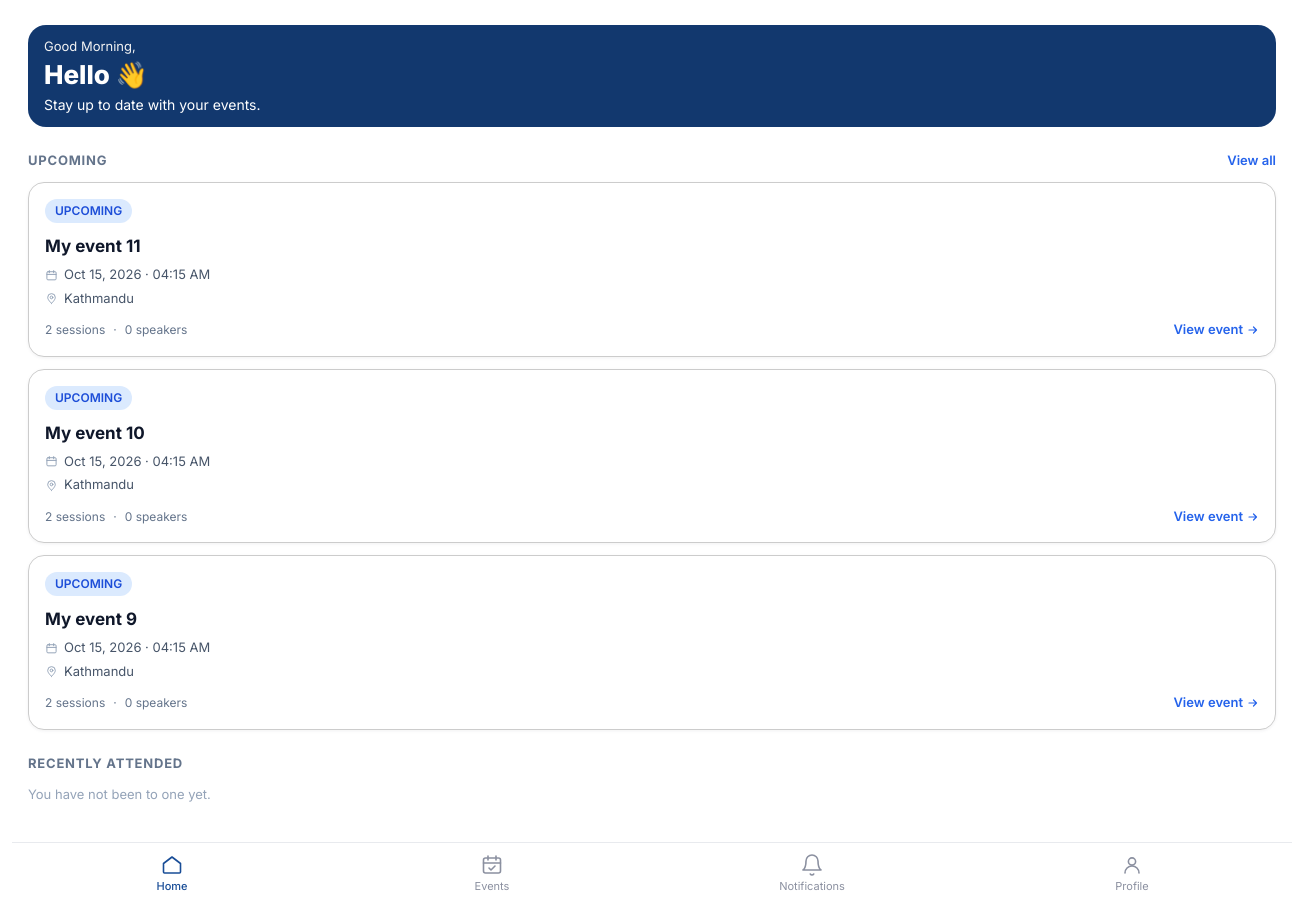
Test case: home › paginates My Events newest-first in pages of five
Click the button "Events".
click(492, 872)  # box [332,843,652,899]
(page scrolled)
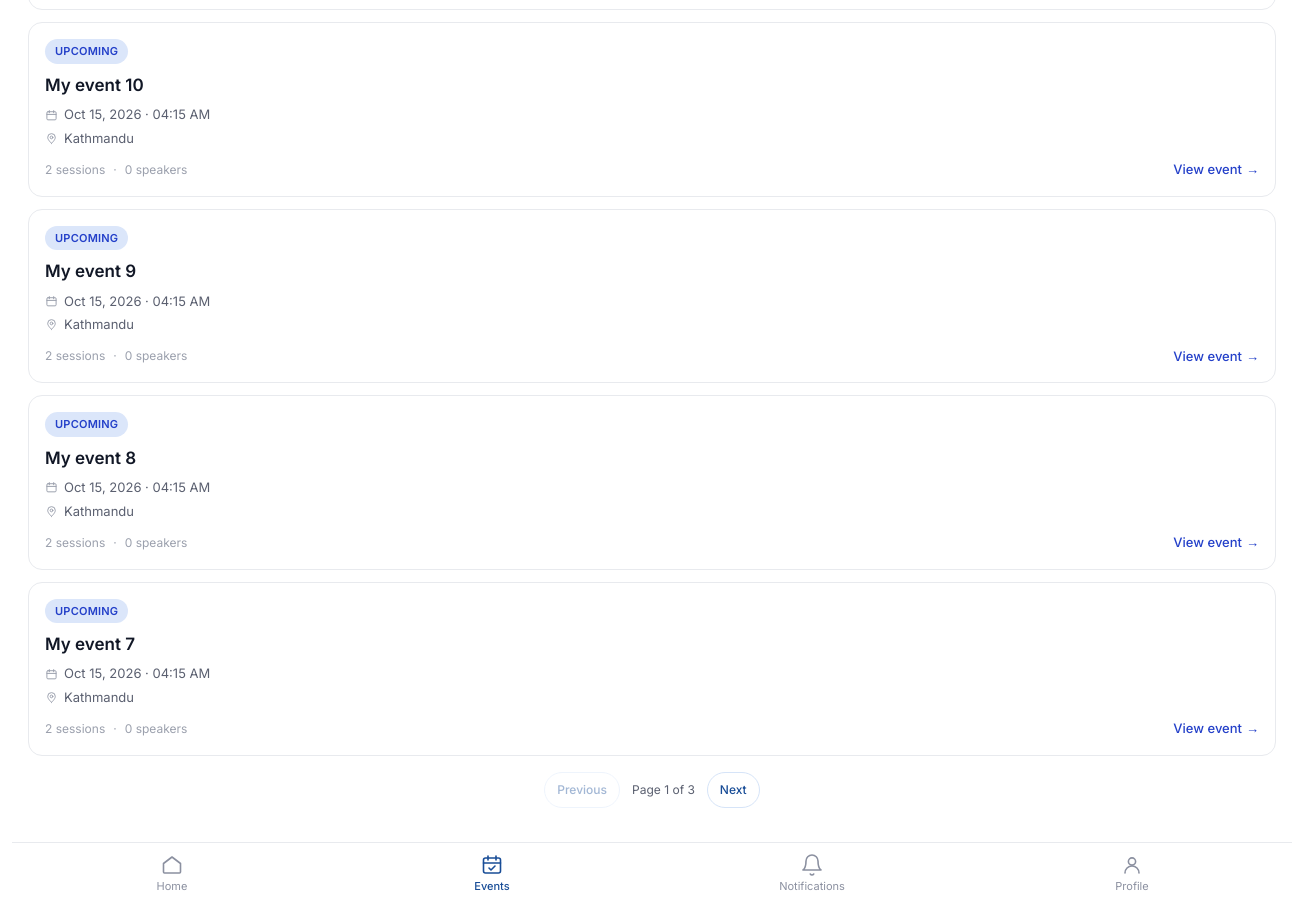
Result: the heading "My event 7" is shown at [45,634,135,654]
Click the button "Next".
click(733, 790)  # box [707,772,760,808]
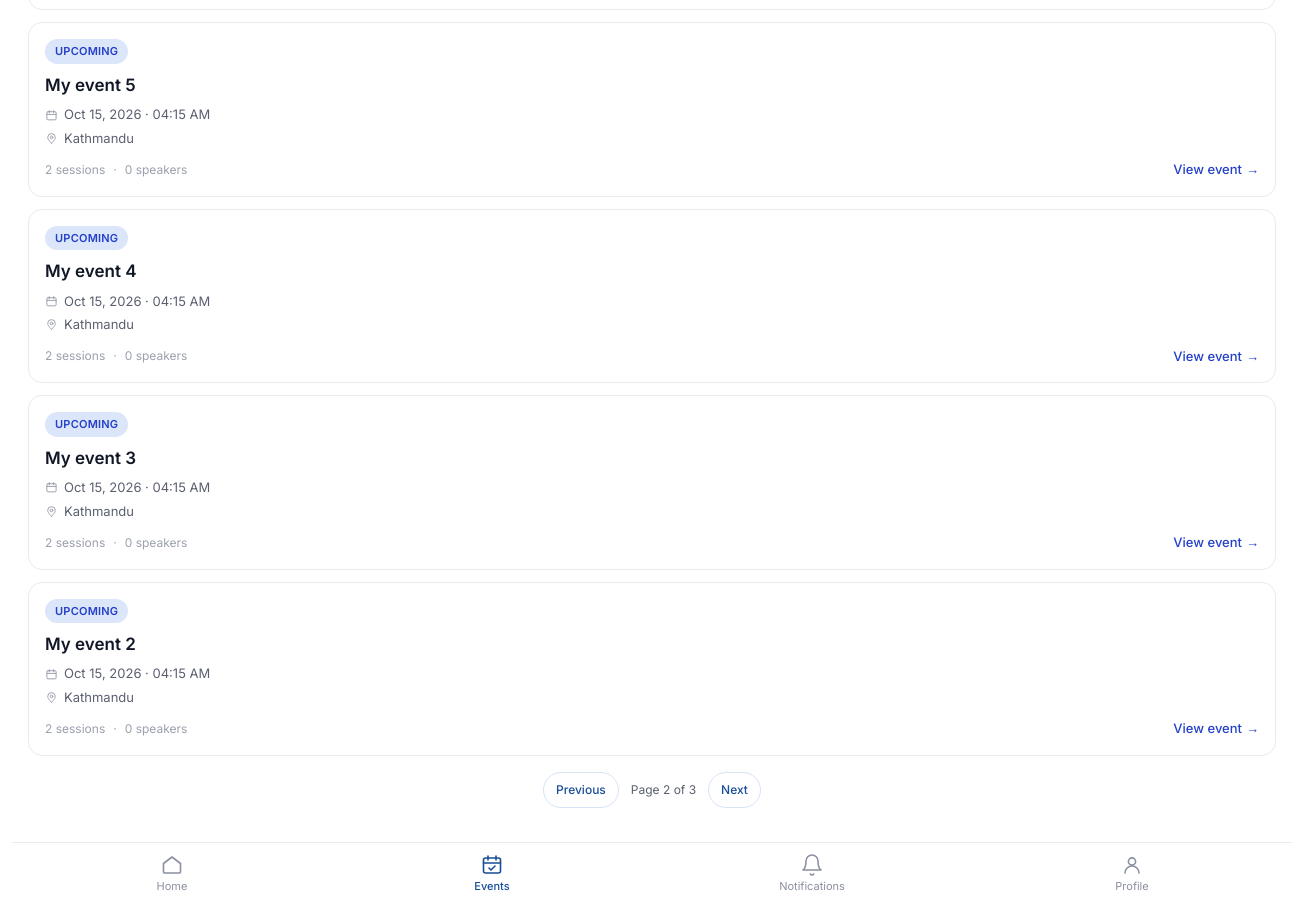
Expected: the text "My event 1" is not shown
Result: the heading "My event 2" is shown at [45,634,136,654]
